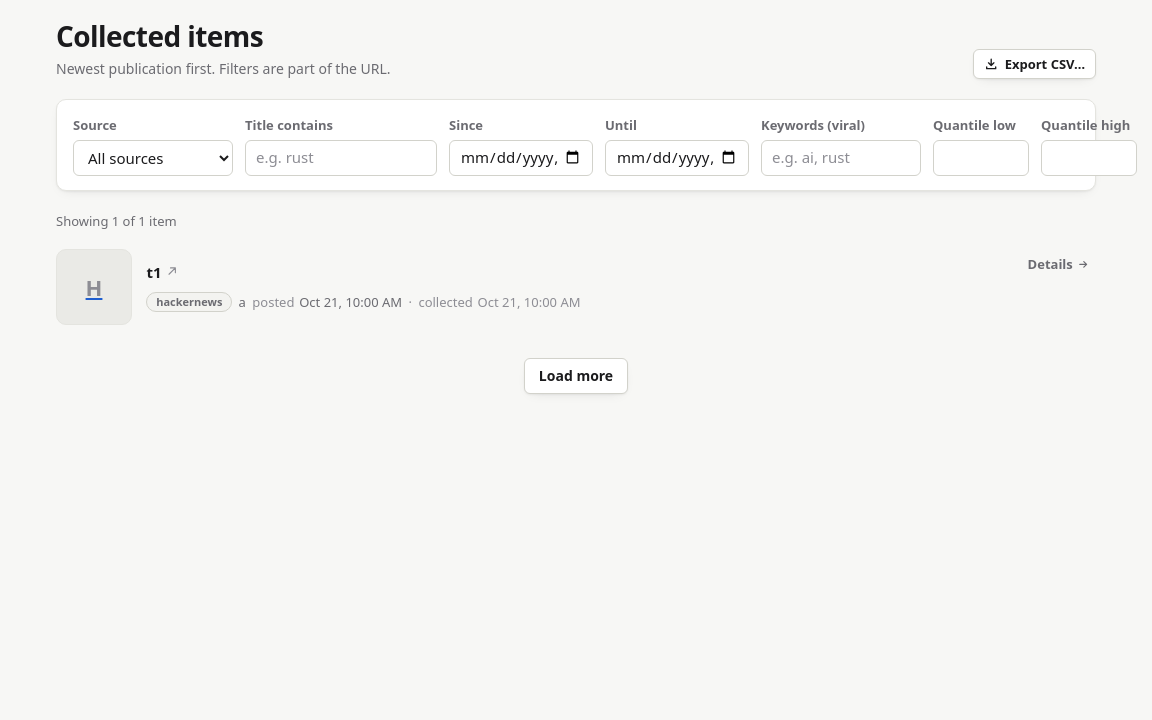
ItemsView export dialog › warns when the ceiling would truncate the export
The width and height of the screenshot is (1152, 720).
Click the button "Export CSV…": (1034, 64) [973, 49, 1096, 79]
Wait 300 ms
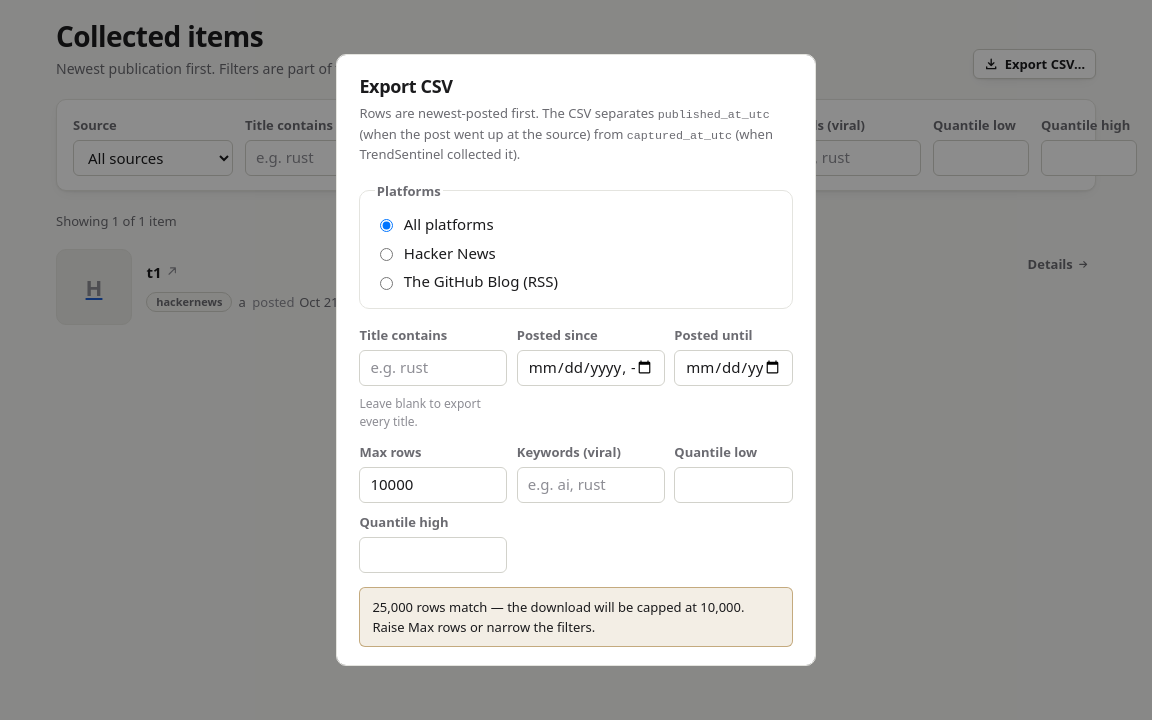
Expected: the message with class "export-dialog__plan--warn" is shown, [359, 587, 793, 647]
Expected: the message with class "export-dialog__plan--warn" shows "25,000 rows match", [372, 598, 744, 636]
Expected: the message with class "export-dialog__plan--warn" shows "capped at 10,000", [372, 598, 744, 636]
